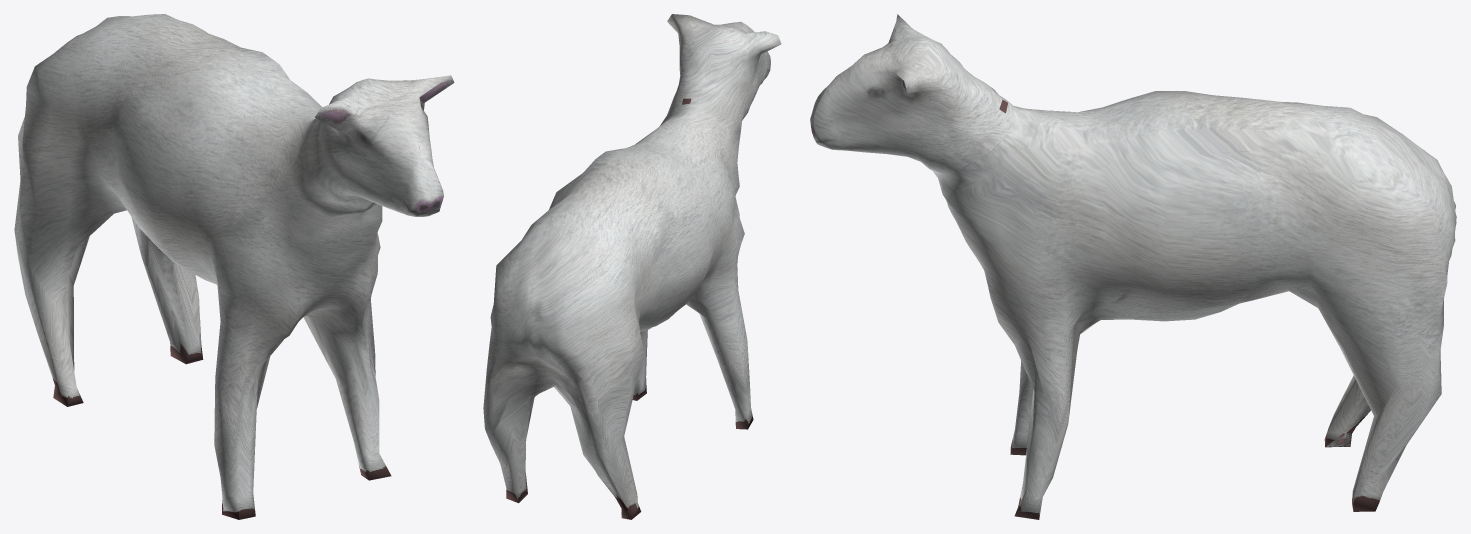
File: sheepies.fbx
3 renders of one model, left to right at view 1: azimuth 30°, elevation 25°; view 2: azimuth 150°, elevation 25°; view 3: azimuth 270°, elevation 25°, orthographic. The views are drawn at different scales.
Parts seen in each view (by area): view 1: Sheep 2; view 2: Sheep 2; view 3: Sheep 2.
Boxes of the visible parts, <box> form: Sheep 2: <box>14,14,454,519</box>; Sheep 2: <box>483,14,781,519</box>; Sheep 2: <box>810,14,1456,519</box>.
Size of the model in its own units: 82.26 by 183 by 237.
